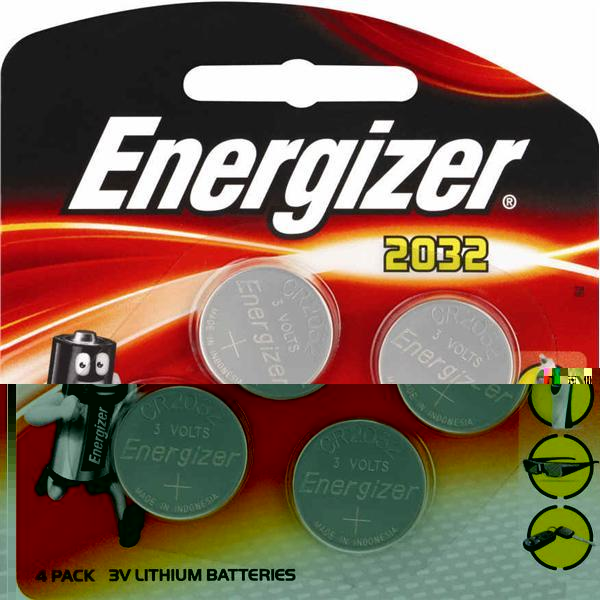Battery: (280, 411, 435, 563), (193, 256, 340, 403), (105, 385, 252, 524), (371, 292, 519, 387)
